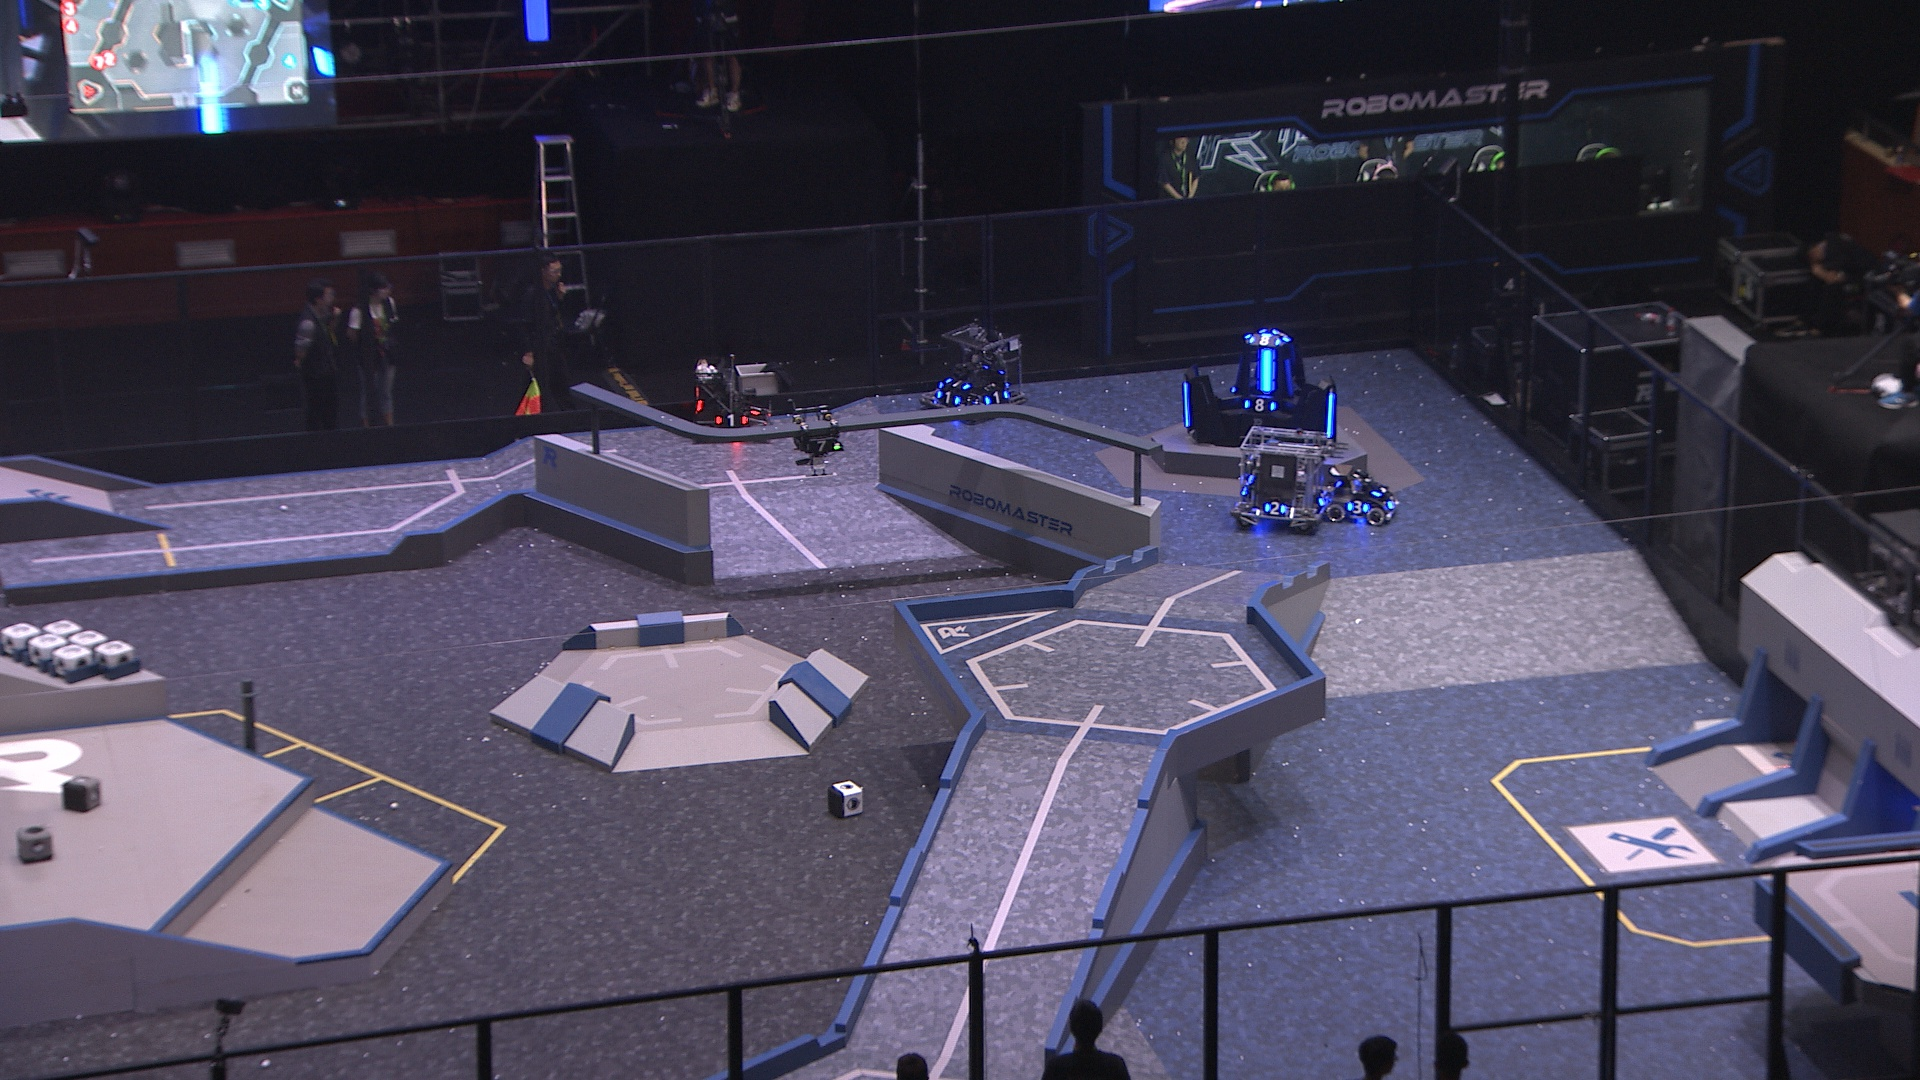armor: (1255, 347, 1280, 396), (1323, 392, 1338, 444), (1182, 376, 1196, 431), (803, 436, 840, 456), (1282, 353, 1299, 396), (1245, 330, 1282, 348), (713, 410, 750, 429), (982, 386, 1010, 406), (1244, 398, 1278, 414), (942, 376, 975, 392), (934, 389, 960, 407), (1263, 500, 1288, 517), (1346, 498, 1367, 516), (1273, 324, 1290, 344), (1382, 491, 1399, 509), (746, 400, 765, 415), (1319, 488, 1332, 506)
base: (1178, 319, 1342, 454)
car: (922, 319, 1029, 425), (1233, 425, 1333, 531), (688, 353, 775, 436), (1317, 462, 1400, 527)
watcher: (787, 394, 844, 480)
